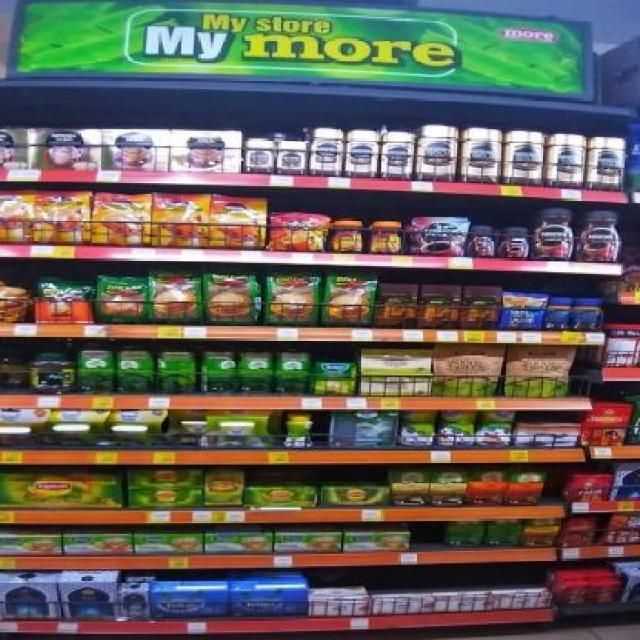Coffee: (211, 195, 265, 250), (94, 192, 148, 246), (36, 192, 89, 246), (154, 194, 207, 248), (579, 209, 622, 262), (533, 208, 574, 261), (464, 128, 502, 184), (419, 125, 456, 181), (412, 219, 466, 256), (589, 137, 626, 190), (507, 131, 542, 186), (549, 134, 584, 188), (273, 215, 324, 252), (309, 128, 342, 176), (347, 130, 378, 178), (382, 131, 413, 178), (331, 220, 364, 254), (369, 220, 402, 254), (500, 227, 529, 260), (277, 141, 304, 174), (246, 138, 272, 172), (469, 227, 494, 258)
